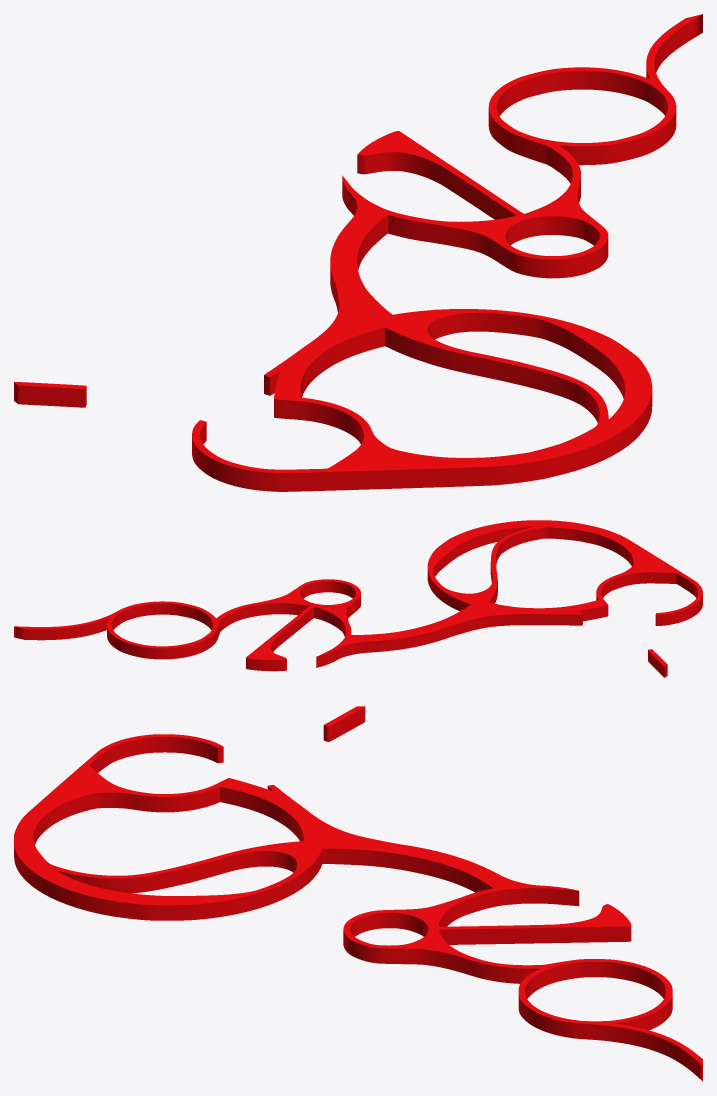
The model's file is Asteroid1Mesh.fbx.
The picture shows the model from 3 angles, top to bottom: view 1: azimuth 30°, elevation 25°; view 2: azimuth 150°, elevation 25°; view 3: azimuth 270°, elevation 25°; orthographic projection. The views are drawn at different scales.
Parts seen in each view (by area): view 1: Curve; view 2: Curve; view 3: Curve.
Part boxes in pixels (x1=…): Curve: x1=14, y1=14, x2=702, y2=491; Curve: x1=14, y1=520, x2=702, y2=677; Curve: x1=14, y1=706, x2=702, y2=1081.
Bounding box in the file's own units: 0.0999 × 0.002 × 0.0808.
